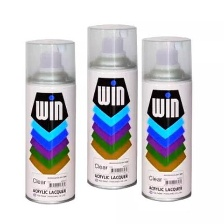aerosol_cans: (138, 32, 196, 204), (83, 18, 140, 192), (20, 35, 77, 206)
